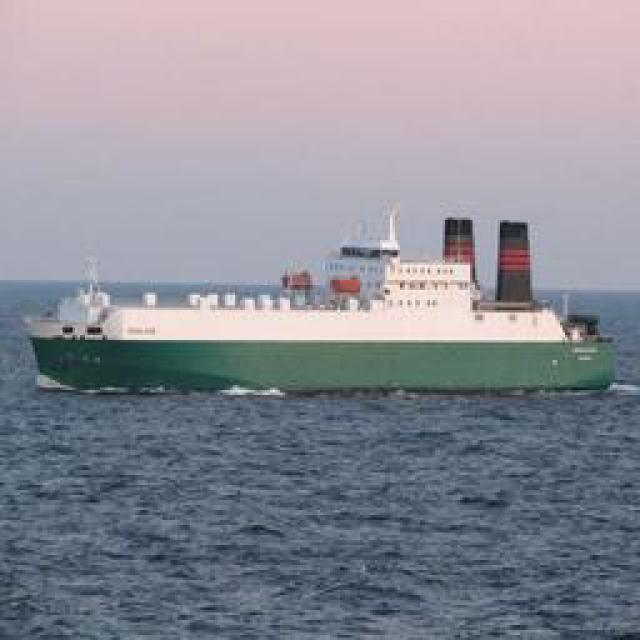Ship: (18, 231, 626, 401)
